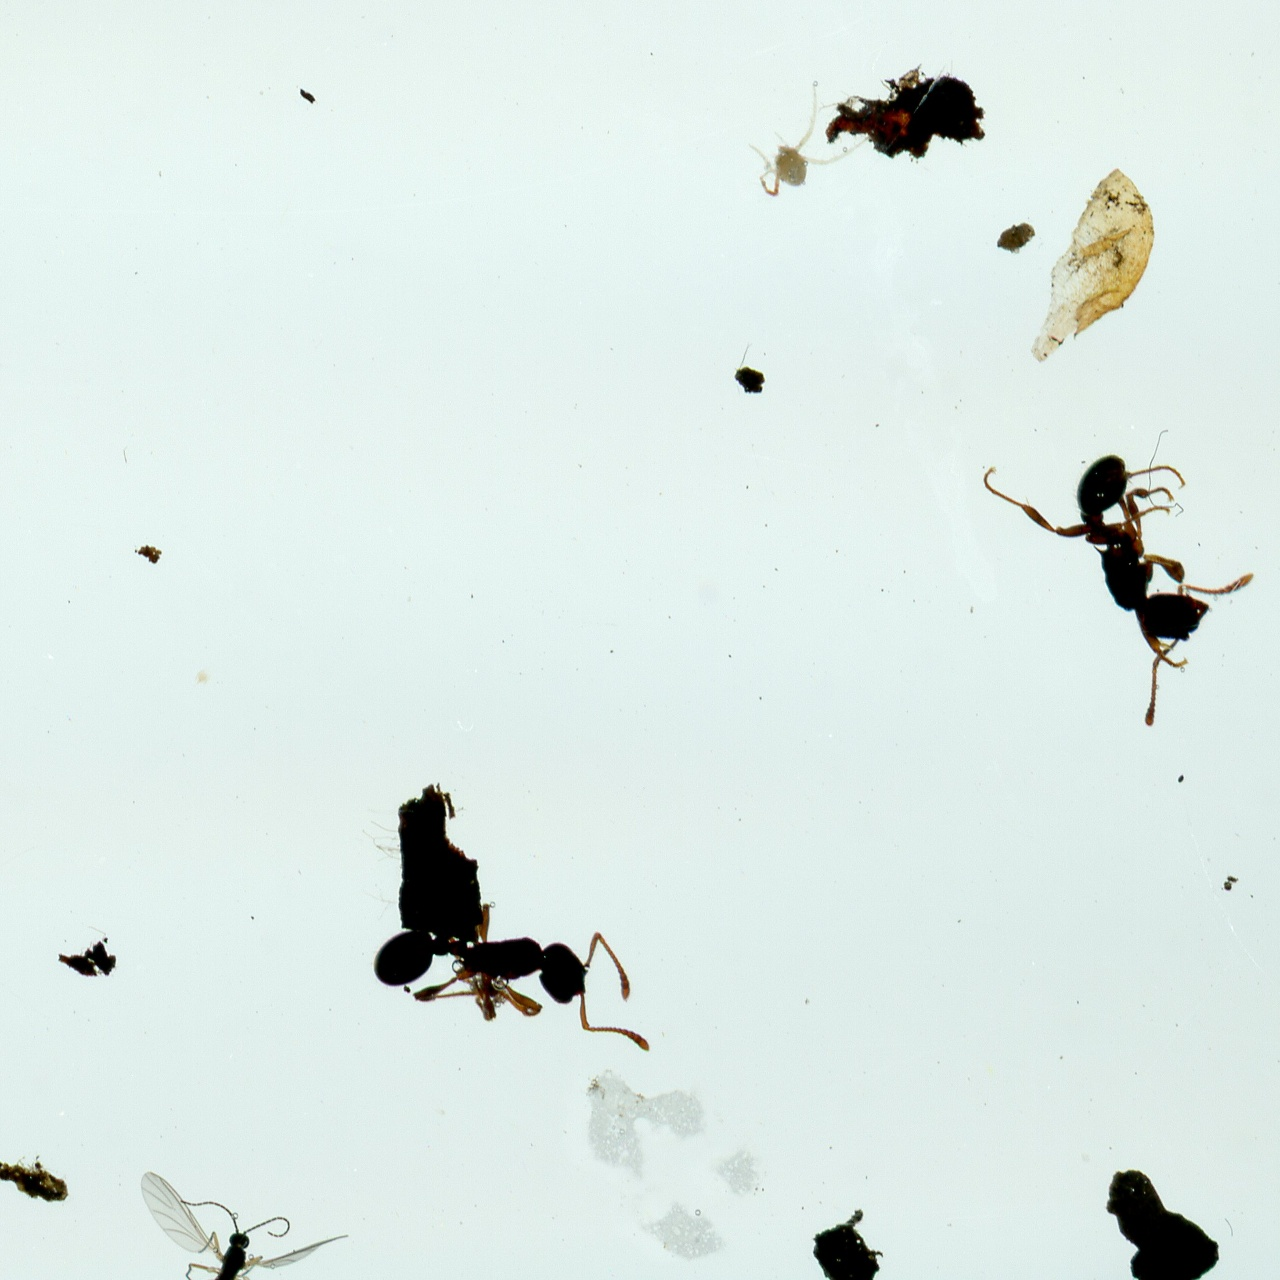arthropod: (973, 447, 1273, 735), (366, 896, 662, 1058), (137, 1166, 354, 1280), (742, 77, 876, 199), (1267, 1196, 1280, 1278)
